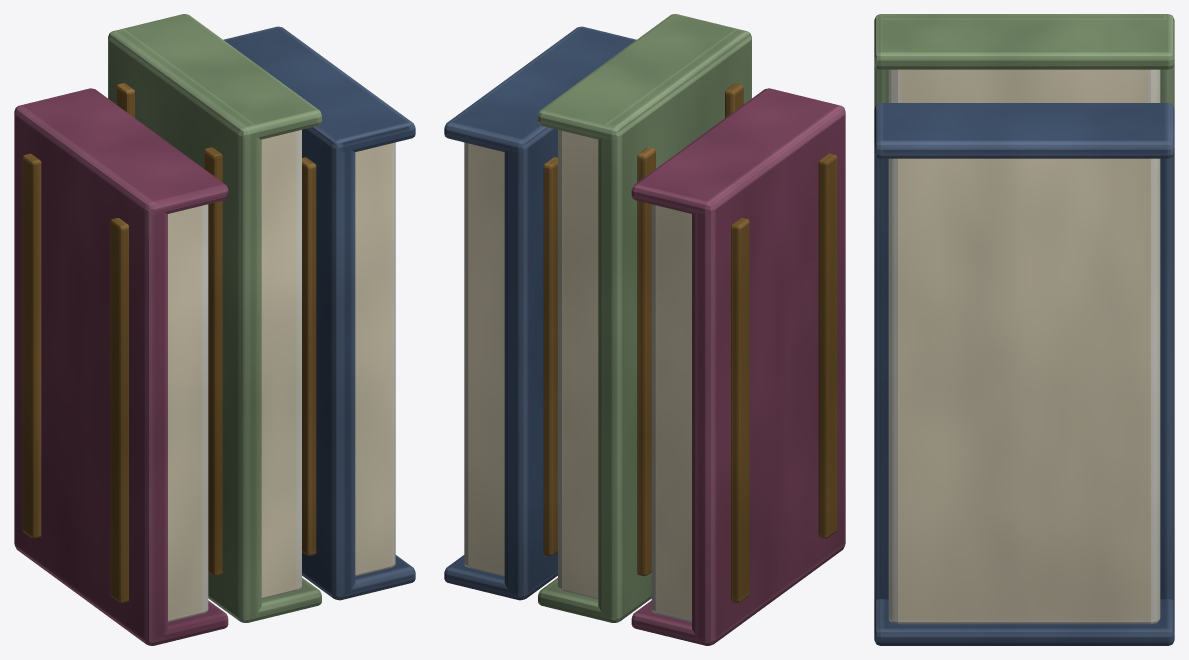
The model's file is 21_Book_Group_4.fbx.
The picture shows the model from 3 angles, left to right: view 1: azimuth 30°, elevation 25°; view 2: azimuth 150°, elevation 25°; view 3: azimuth 270°, elevation 25°; orthographic projection. The views are drawn at different scales.
Visible parts, largest first — view 1: 21_Book_Group_4; view 2: 21_Book_Group_4; view 3: 21_Book_Group_4.
Boxes of the visible parts, <box> form: 21_Book_Group_4: <box>14,14,415,645</box>; 21_Book_Group_4: <box>444,14,845,645</box>; 21_Book_Group_4: <box>874,14,1174,645</box>.
Size of the model in its own units: 22.3 by 37.92 by 19.
1 material, 1 textured.
